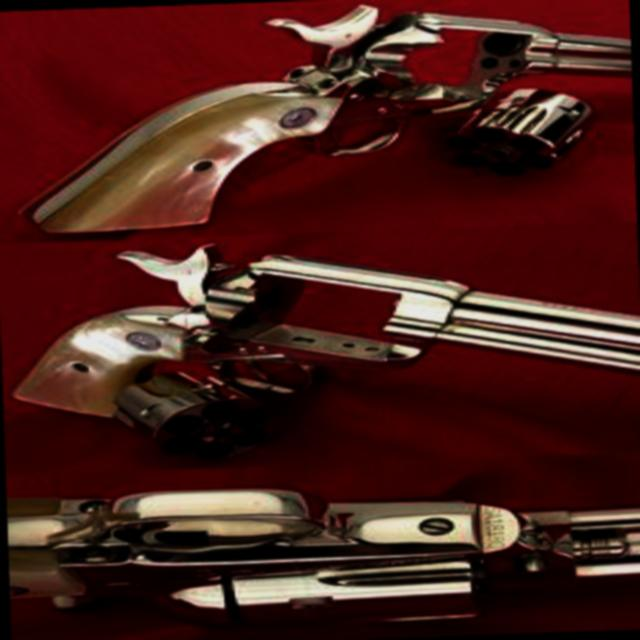revolver: (0, 0, 637, 242), (0, 227, 640, 460), (4, 444, 640, 639)
